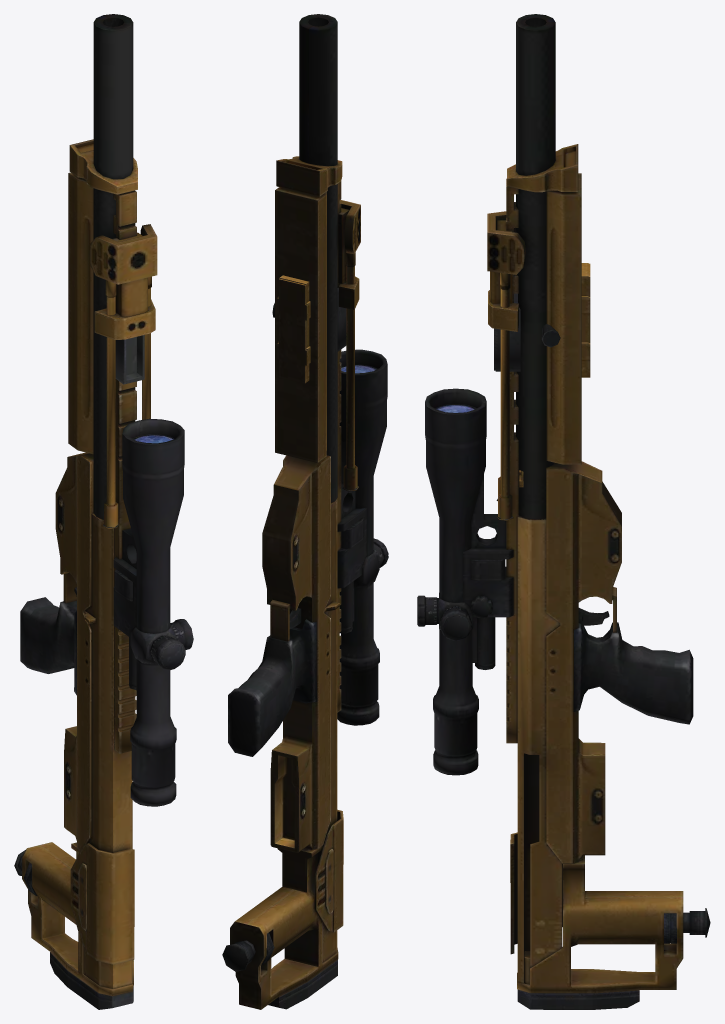
The model's file is DSR-1_Gold.obj.
The picture shows the model from 3 angles, left to right: view 1: azimuth 30°, elevation 25°; view 2: azimuth 150°, elevation 25°; view 3: azimuth 270°, elevation 25°; orthographic projection. The views are drawn at different scales.
Parts seen in each view (by area): view 1: DSR_1, DSR_1_scope, Model_PreMagazine, Magazine; view 2: DSR_1, DSR_1_scope, Magazine, Model_PreMagazine; view 3: DSR_1, DSR_1_scope, Magazine, Model_PreMagazine.
Boxes of the visible parts, bbox=[...] form: DSR_1: bbox=[14, 14, 157, 1009]; DSR_1_scope: bbox=[113, 418, 193, 806]; Model_PreMagazine: bbox=[115, 335, 144, 384]; Magazine: bbox=[115, 335, 141, 384]; DSR_1: bbox=[222, 14, 360, 1009]; DSR_1_scope: bbox=[337, 349, 388, 725]; Magazine: bbox=[277, 278, 346, 383]; Model_PreMagazine: bbox=[278, 275, 346, 381]; DSR_1: bbox=[487, 14, 710, 1009]; DSR_1_scope: bbox=[417, 388, 513, 775]; Magazine: bbox=[495, 263, 590, 377]; Model_PreMagazine: bbox=[494, 263, 588, 376].
Bounding box in the file's own units: 0.0741 × 1.03 × 0.2791.
Materials: 2 (2 with a texture image).
